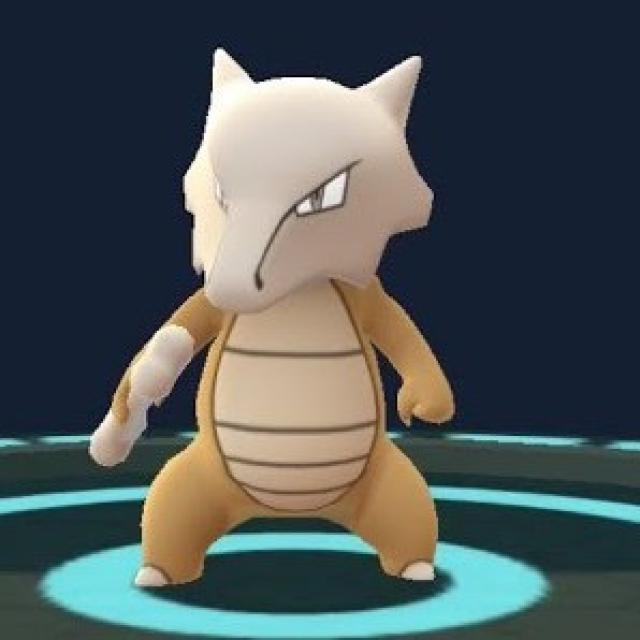Marowak: (130, 36, 463, 588)
